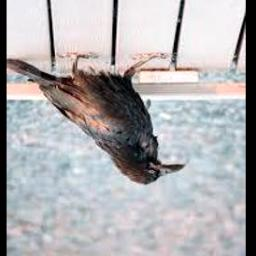Crow: (7, 53, 186, 185)
